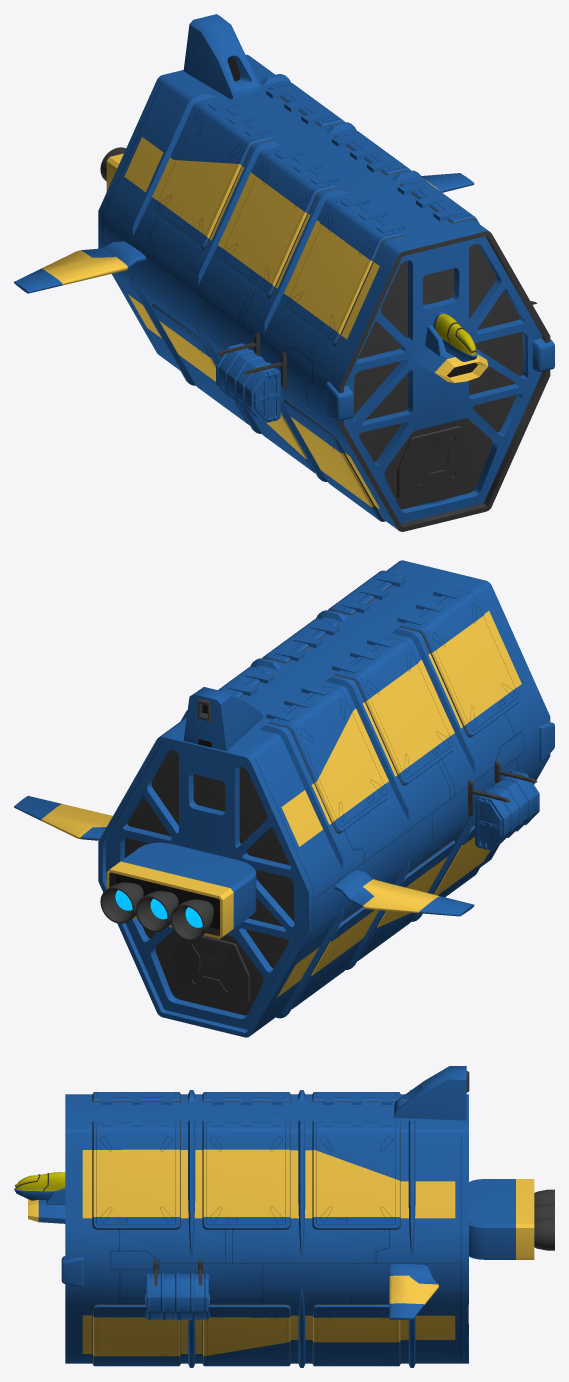
Rendered from Rover-LavaCargo.glb.
The picture shows the model from 3 angles, top to bottom: view 1: azimuth 30°, elevation 25°; view 2: azimuth 150°, elevation 25°; view 3: azimuth 270°, elevation 25°; orthographic projection. The views are drawn at different scales.
Parts seen in each view (by area): view 1: ShipPart_2, ShipPart_8, ShipPart_896, ShipPart_675, ShipPart_1037, ShipPart_584; view 2: ShipPart_2, ShipPart_691, ShipPart_8, ShipPart_896, ShipPart_1037, ShipPart_584; view 3: ShipPart_2, ShipPart_691, ShipPart_8, ShipPart_443, ShipPart_584, ShipPart_675.
Boxes of the visible parts, x1,y1,x2,y2 form: ShipPart_2: [98, 54, 554, 531]; ShipPart_8: [183, 14, 263, 100]; ShipPart_896: [216, 343, 280, 423]; ShipPart_675: [409, 311, 488, 382]; ShipPart_1037: [14, 241, 145, 293]; ShipPart_584: [421, 173, 474, 192]; ShipPart_2: [98, 560, 554, 1037]; ShipPart_691: [100, 842, 256, 940]; ShipPart_8: [183, 687, 263, 751]; ShipPart_896: [475, 770, 539, 850]; ShipPart_1037: [334, 869, 474, 916]; ShipPart_584: [14, 796, 112, 840]; ShipPart_2: [61, 1090, 468, 1367]; ShipPart_691: [469, 1179, 554, 1259]; ShipPart_8: [394, 1066, 469, 1120]; ShipPart_443: [145, 1273, 209, 1320]; ShipPart_584: [389, 1263, 438, 1319]; ShipPart_675: [14, 1172, 65, 1223].
Bounding box in the file's own units: 21.92 × 15.74 × 27.52.
Materials: 30 (7 with a texture image).
